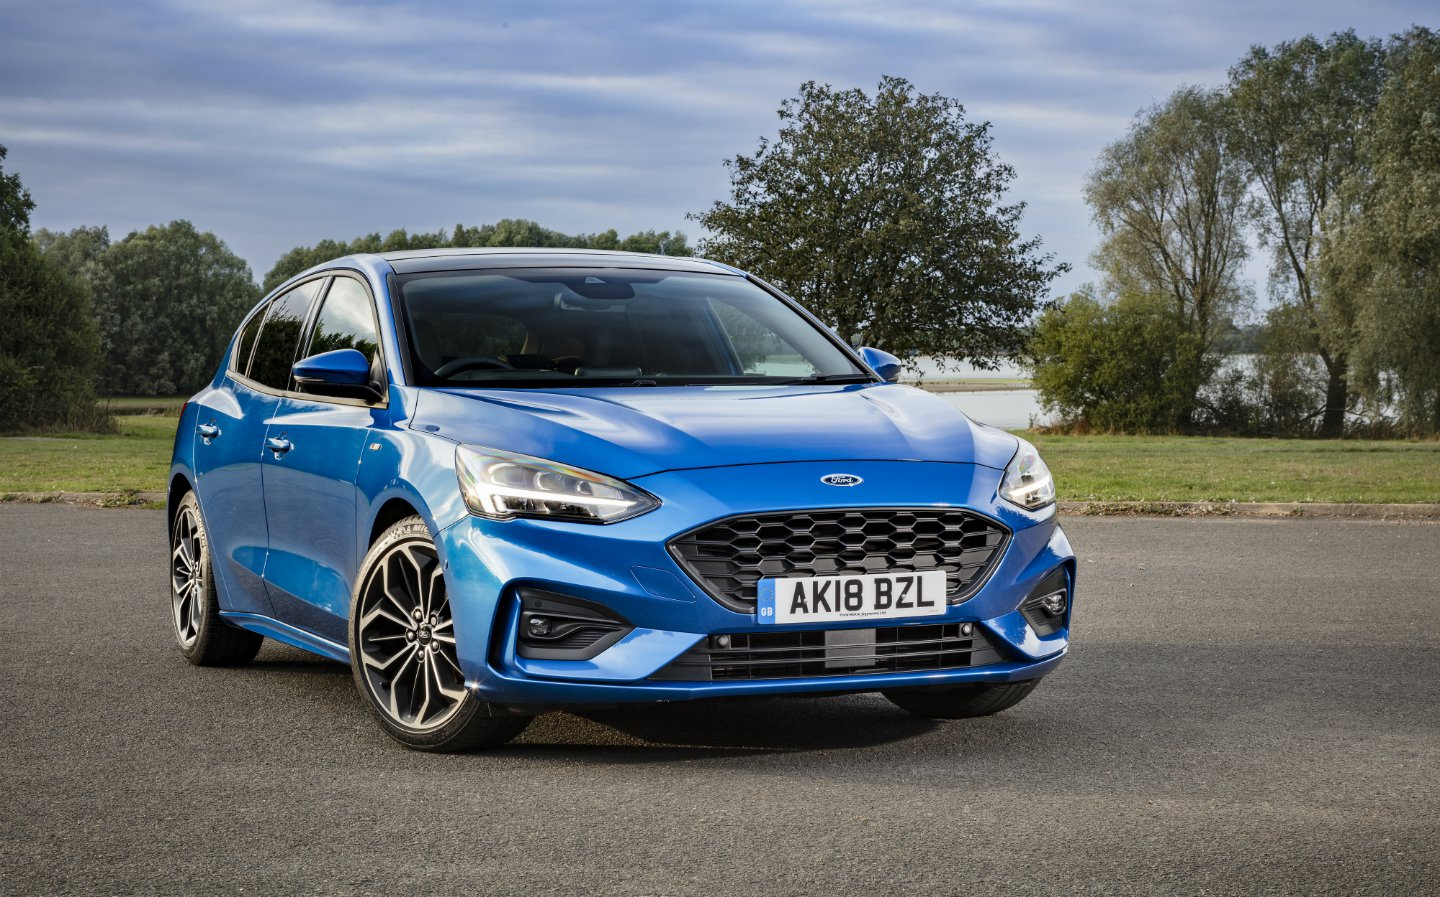car: (158, 230, 1072, 748)
